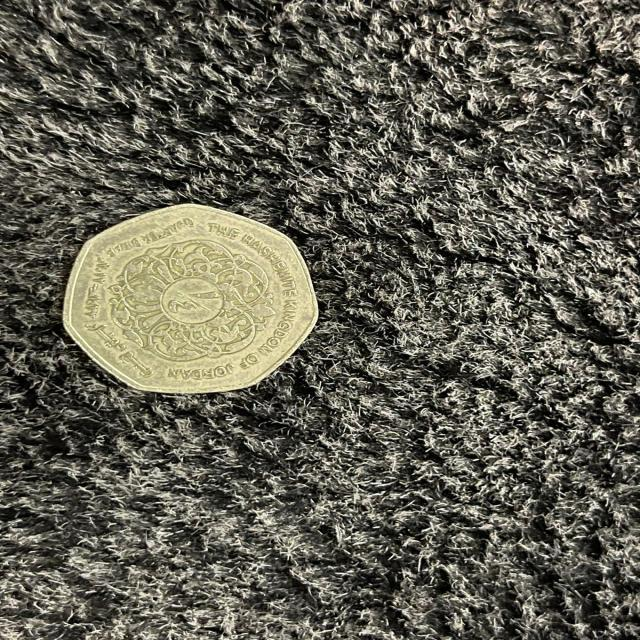25-coins: (62, 200, 318, 395)
